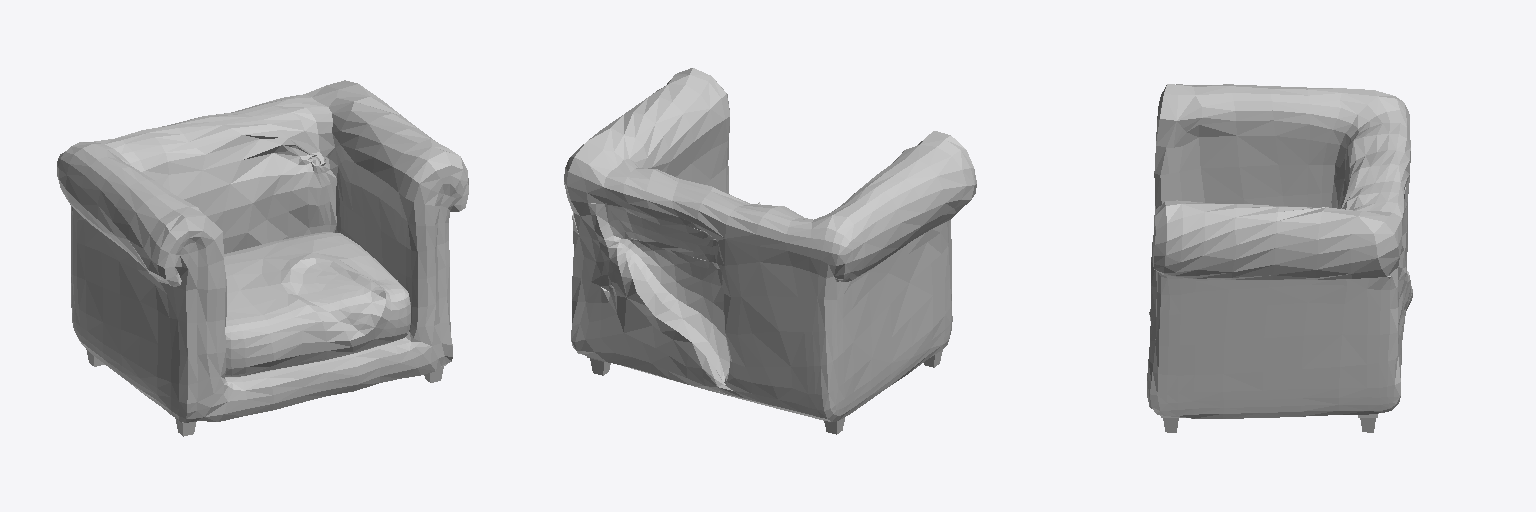
The model's file is FullChair003.obj.
3 renders of one model, left to right at view 1: azimuth 30°, elevation 25°; view 2: azimuth 150°, elevation 25°; view 3: azimuth 270°, elevation 25°, orthographic.
Parts seen in each view (by area): view 1: group1 ChairLowPolyObjExport3:RoadKillOut, group1 SeatLowPoly1:RoadKillOut; view 2: group1 ChairLowPolyObjExport3:RoadKillOut; view 3: group1 ChairLowPolyObjExport3:RoadKillOut.
Part boxes in pixels (x1,y1,x2,y2): group1 ChairLowPolyObjExport3:RoadKillOut: (57,80,468,422); group1 SeatLowPoly1:RoadKillOut: (224,232,410,376); group1 ChairLowPolyObjExport3:RoadKillOut: (564,68,976,421); group1 ChairLowPolyObjExport3:RoadKillOut: (1147,84,1412,418).
Size of the model in its own units: 145 by 102 by 108.